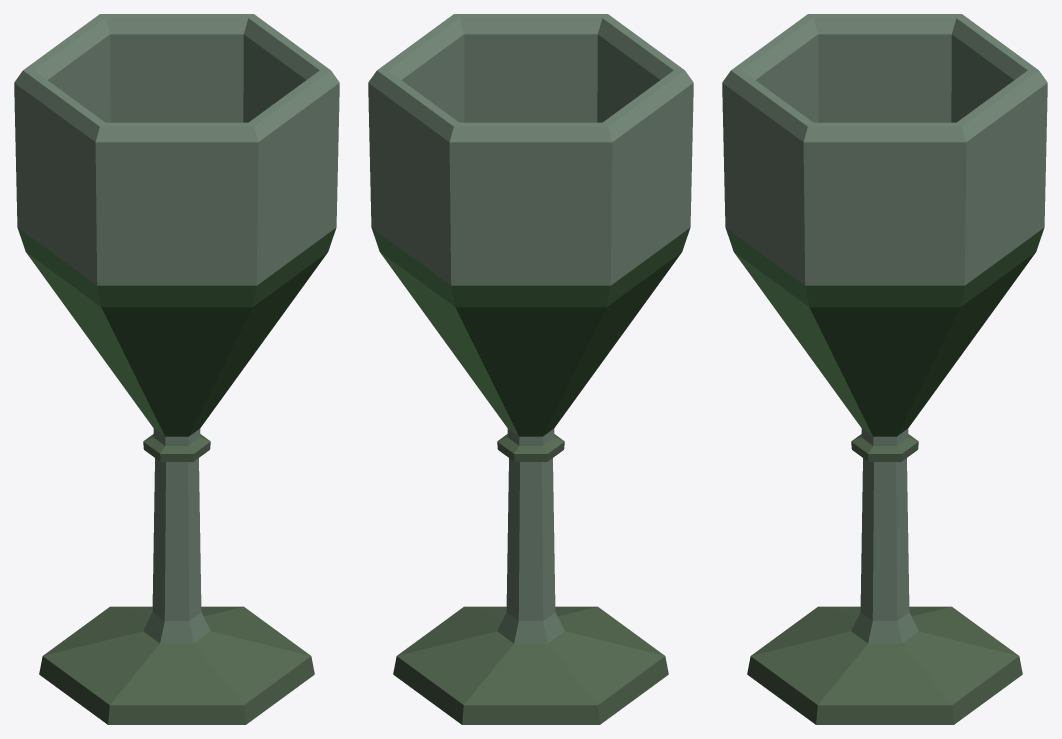
Rendered from WF_LP_HT_Props_Drink.005.fbx.
3 renders of one model, left to right at view 1: azimuth 30°, elevation 25°; view 2: azimuth 150°, elevation 25°; view 3: azimuth 270°, elevation 25°, orthographic.
Parts seen in each view (by area): view 1: WF_LP_HT_Props_Drink.005; view 2: WF_LP_HT_Props_Drink.005; view 3: WF_LP_HT_Props_Drink.005.
Boxes of the visible parts, x1,y1,x2,y2 form: WF_LP_HT_Props_Drink.005: (14, 14, 339, 724); WF_LP_HT_Props_Drink.005: (368, 14, 693, 724); WF_LP_HT_Props_Drink.005: (722, 14, 1047, 724).
Size of the model in its own units: 0.1106 by 0.2615 by 0.1277.
